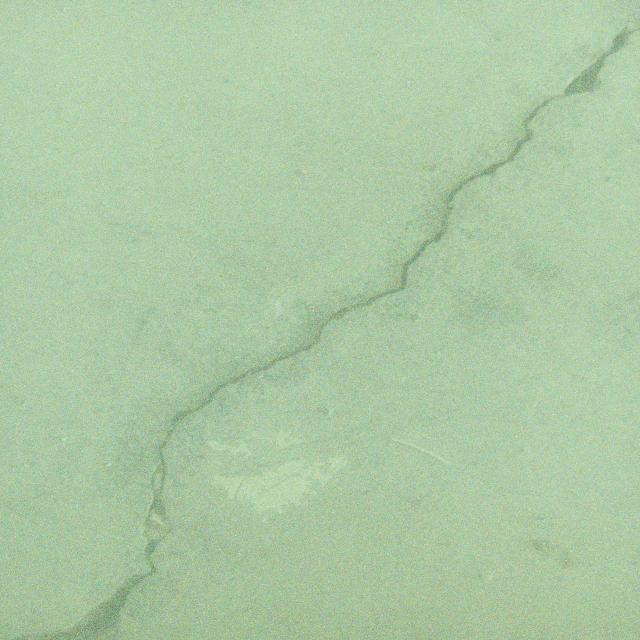crack: (18, 11, 640, 640)
